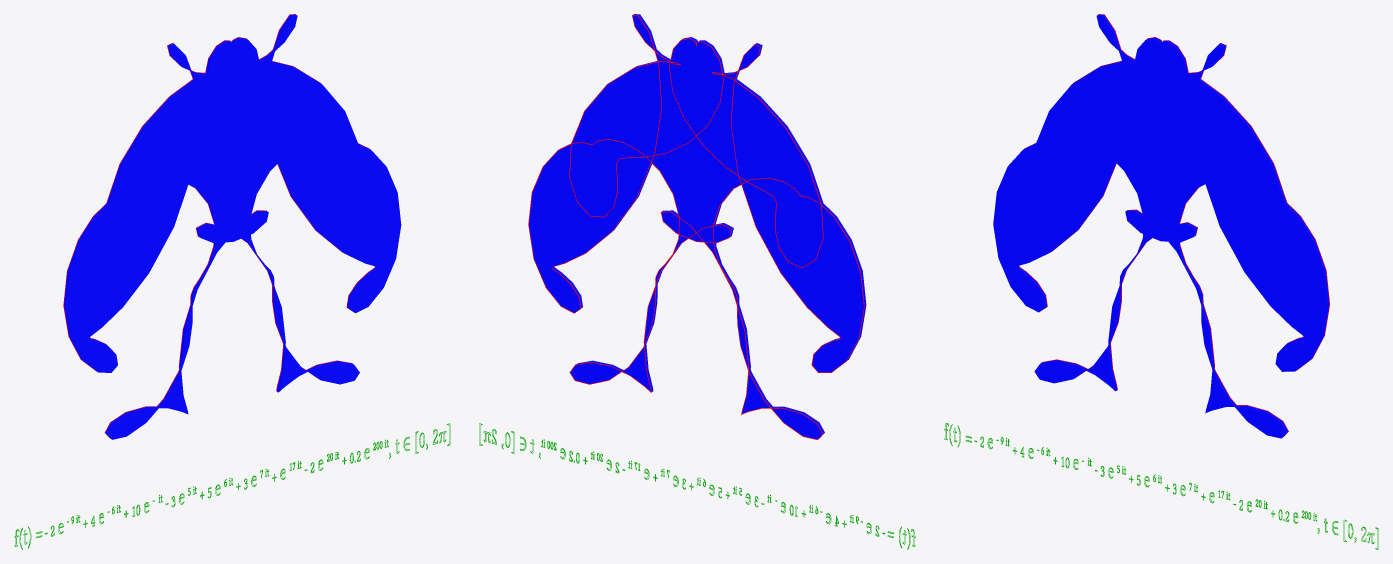
The model's file is SimpleBeauty69.glb.
3 renders of one model, left to right at view 1: azimuth 30°, elevation 25°; view 2: azimuth 150°, elevation 25°; view 3: azimuth 330°, elevation 25°, orthographic.
Size of the model in its own units: 1.2 by 1.23 by 0.0109.
